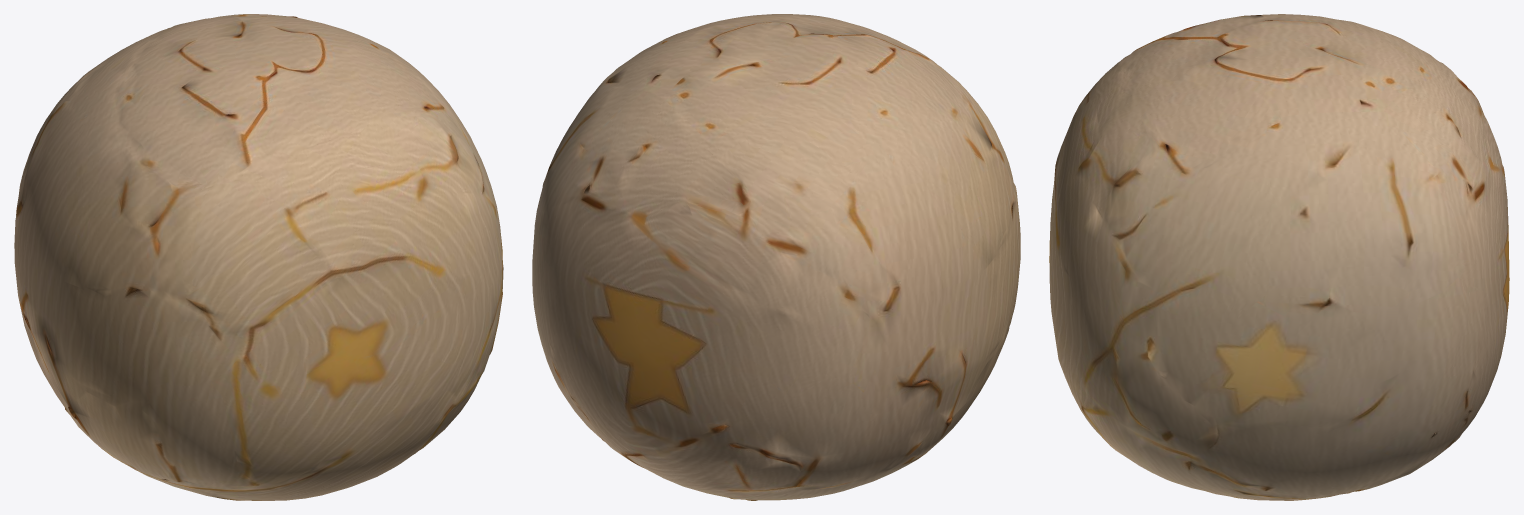
Rendered from space-item.glb.
3 renders of one model, left to right at view 1: azimuth 30°, elevation 25°; view 2: azimuth 150°, elevation 25°; view 3: azimuth 270°, elevation 25°, orthographic.
Visible parts, largest first — view 1: Mesh_0; view 2: Mesh_0; view 3: Mesh_0.
Part boxes in pixels (box(x1,y1,x2,y2)): Mesh_0: box(14, 14, 503, 500); Mesh_0: box(532, 14, 1020, 500); Mesh_0: box(1049, 14, 1509, 500).
Size of the model in its own units: 2 by 2 by 1.97.
Materials: 1 (1 with a texture image).
